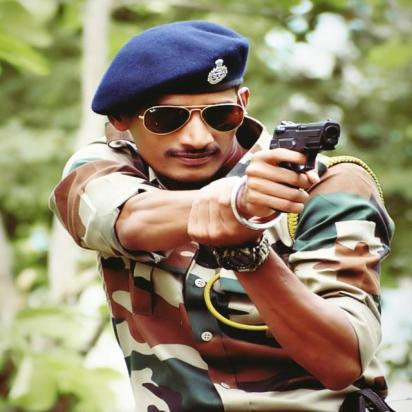Gun: (259, 118, 353, 219)
